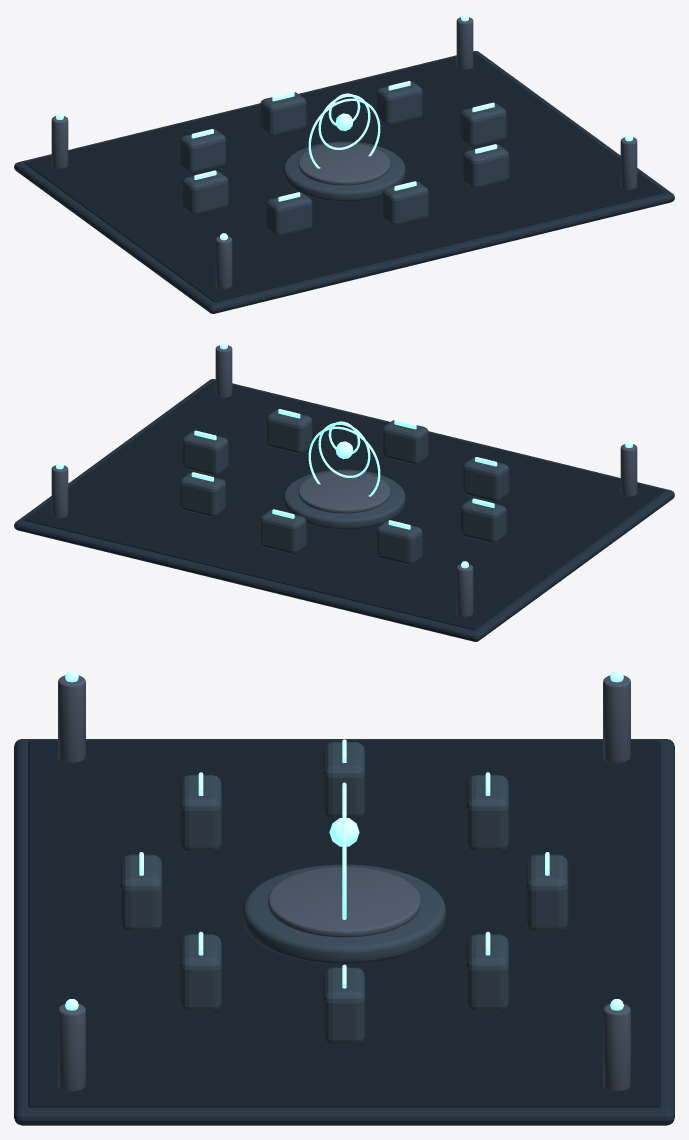
Rendered from command-center.glb.
The picture shows the model from 3 angles, top to bottom: view 1: azimuth 30°, elevation 25°; view 2: azimuth 150°, elevation 25°; view 3: azimuth 270°, elevation 25°; orthographic projection. The views are drawn at different scales.
Visible parts, largest first — view 1: inset, platform, core_step, core_dais, radial_console.004, radial_console.002, radial_console.003, radial_console, radial_console.006, radial_console.005, radial_console.001, radial_console.007 (+5 smaller); view 2: inset, platform, core_step, core_dais, radial_console.004, radial_console.005, radial_console.006, radial_console, radial_console.002, radial_console.003, radial_console.007, radial_console.001 (+5 smaller); view 3: inset, platform, core_step, core_dais, radial_console, radial_console.002, radial_console.006, radial_console.001, radial_console.007, radial_console.003, radial_console.005, radial_console.004 (+4 smaller).
Boxes of the visible parts, x1=… form: inset: x1=24, y1=52, x2=664, y2=302; platform: x1=14, y1=51, x2=674, y2=313; core_step: x1=298, y1=143, x2=390, y2=185; core_dais: x1=283, y1=141, x2=405, y2=201; radial_console.004: x1=182, y1=171, x2=228, y2=215; radial_console.002: x1=382, y1=181, x2=428, y2=226; radial_console.003: x1=266, y1=192, x2=312, y2=237; radial_console: x1=460, y1=103, x2=506, y2=147; radial_console.006: x1=260, y1=92, x2=306, y2=136; radial_console.005: x1=179, y1=129, x2=225, y2=173; radial_console.001: x1=463, y1=144, x2=509, y2=189; radial_console.007: x1=376, y1=81, x2=422, y2=125; inset: x1=24, y1=380, x2=664, y2=630; platform: x1=14, y1=379, x2=674, y2=641; core_step: x1=298, y1=471, x2=390, y2=513; core_dais: x1=283, y1=469, x2=405, y2=529; radial_console.004: x1=460, y1=499, x2=506, y2=543; radial_console.005: x1=376, y1=520, x2=422, y2=565; radial_console.006: x1=260, y1=509, x2=306, y2=554; radial_console: x1=182, y1=431, x2=228, y2=475; radial_console.002: x1=382, y1=420, x2=428, y2=464; radial_console.003: x1=463, y1=457, x2=509, y2=501; radial_console.007: x1=179, y1=472, x2=225, y2=517; radial_console.001: x1=266, y1=409, x2=312, y2=453; inset: x1=28, y1=740, x2=660, y2=1107; platform: x1=14, y1=739, x2=674, y2=1125; core_step: x1=268, y1=867, x2=420, y2=937; core_dais: x1=243, y1=864, x2=445, y2=964; radial_console: x1=323, y1=967, x2=365, y2=1045; radial_console.002: x1=120, y1=854, x2=162, y2=932; radial_console.006: x1=526, y1=854, x2=568, y2=932; radial_console.001: x1=180, y1=934, x2=221, y2=1012; radial_console.007: x1=467, y1=934, x2=508, y2=1012; radial_console.003: x1=180, y1=775, x2=221, y2=852; radial_console.005: x1=467, y1=775, x2=508, y2=852; radial_console.004: x1=323, y1=742, x2=365, y2=819.
Bounding box in the file's own units: 15.4 × 2.93 × 11.4.
